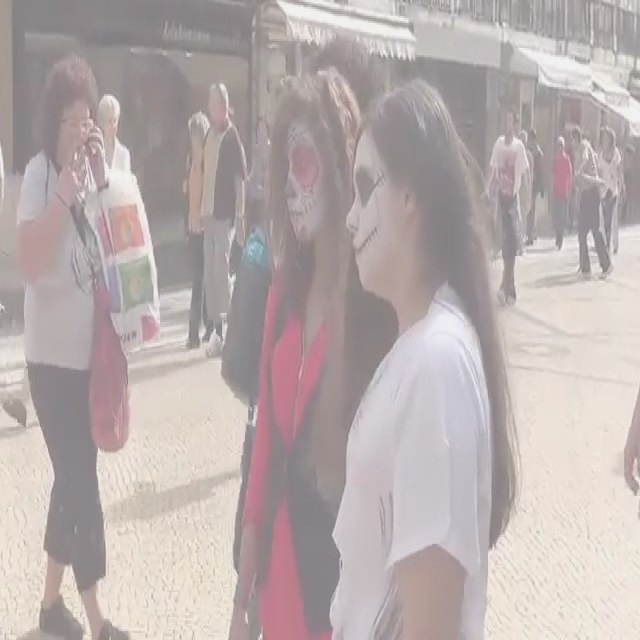pessoa: (318, 73, 522, 640), (227, 63, 398, 639), (228, 60, 361, 640), (12, 52, 135, 640), (198, 77, 249, 366), (480, 103, 532, 310), (184, 109, 214, 351), (570, 124, 613, 282), (594, 124, 620, 258), (94, 88, 132, 174), (550, 130, 574, 250), (248, 114, 272, 228), (622, 384, 640, 526), (525, 126, 545, 247), (516, 130, 534, 244), (618, 140, 640, 227)
